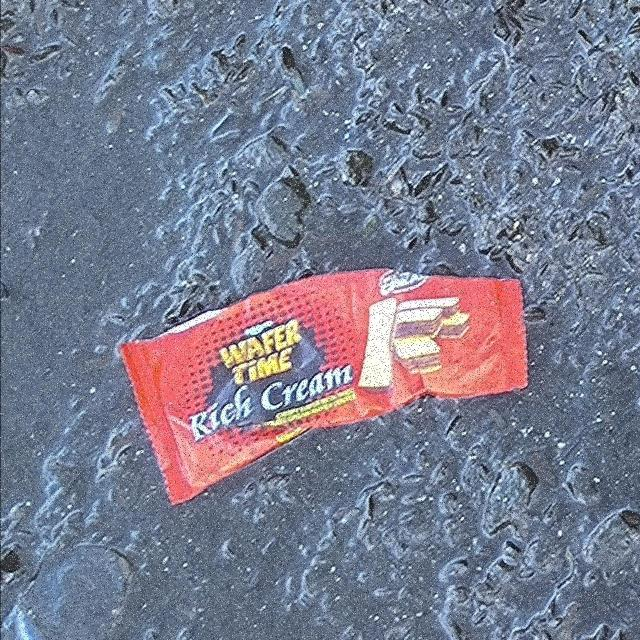plastic_waste: (119, 269, 530, 507)
